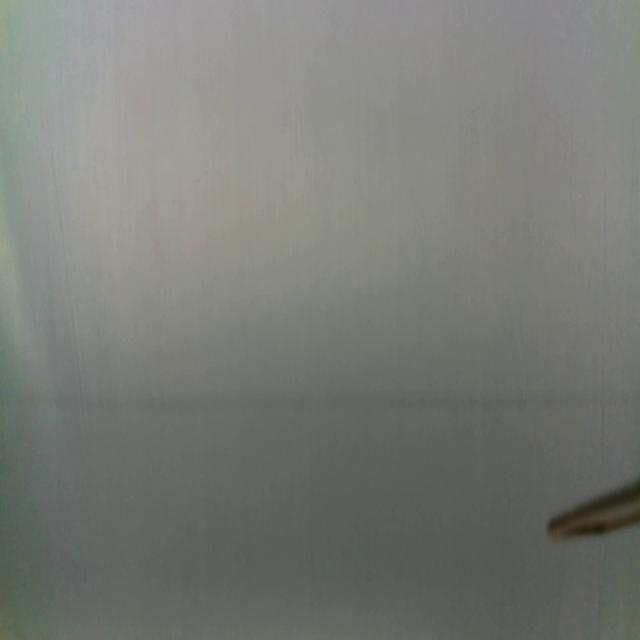color bleeding: (0, 374, 640, 436)
crease: (51, 150, 87, 425)
